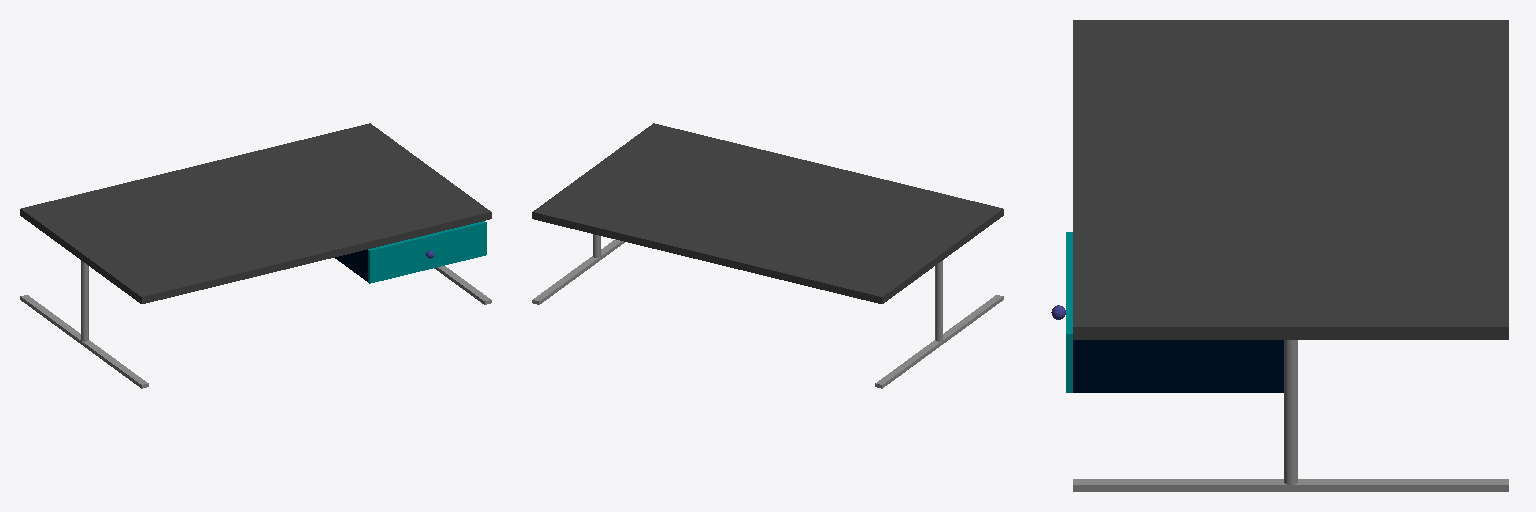
The robot description file, URDF, robot "desk":
<?xml version="1.0" ?>
<!-- =================================================================================== -->
<!-- |    This document was autogenerated by xacro from desk.urdf.xacro                | -->
<!-- |    EDITING THIS FILE BY HAND IS NOT RECOMMENDED                                 | -->
<!-- =================================================================================== -->
<robot name="desk" xmlns:xacro="http://www.ros.org/wiki/xacro">
  <material name="light_gray">
    <color rgba="0.6 0.6 0.6 1"/>
  </material>
  <material name="dark_gray">
    <color rgba="0.3 0.3 0.3 1"/>
  </material>
  <material name="marine">
    <color rgba="0 0.1 0.2 1"/>
  </material>
  <material name="light_turquoise">
    <color rgba="0 0.6 0.6 1"/>
  </material>
  <material name="light_purple">
    <color rgba="0.3 0.3 0.6 1"/>
  </material>
  <link name="world"/>
  <link name="board">
    <visual>
      <geometry>
        <box size="2.5 1.5 0.05"/>
      </geometry>
      <origin rpy="0 0 0" xyz="0 0 0"/>
      <material name="dark_gray"/>
    </visual>
    <collision>
      <geometry>
        <box size="2.5 1.5 0.05"/>
      </geometry>
      <origin rpy="0 0 0" xyz="0 0 0"/>
    </collision>
  </link>
  <link name="right_body">
    <visual>
      <geometry>
        <cylinder length="0.55" radius="0.025"/>
      </geometry>
      <origin rpy="0 0 0" xyz="0 0 0"/>
      <material name="light_gray"/>
    </visual>
    <collision>
      <geometry>
        <cylinder length="0.55" radius="0.025"/>
      </geometry>
      <origin rpy="0 0 0" xyz="0 0 0"/>
    </collision>
  </link>
  <link name="right_foot">
    <visual>
      <geometry>
        <box size="0.05 1.5 0.025"/>
      </geometry>
      <origin rpy="0 0 0" xyz="0 0 0"/>
      <material name="light_gray"/>
    </visual>
    <collision>
      <geometry>
        <box size="0.05 1.5 0.025"/>
      </geometry>
      <origin rpy="0 0 0" xyz="0 0 0"/>
    </collision>
  </link>
  <joint name="right_body_foot_joint" type="fixed">
    <parent link="right_body"/>
    <child link="right_foot"/>
    <origin rpy="0 0 0" xyz="0 0 -0.2875"/>
  </joint>
  <link name="left_body">
    <visual>
      <geometry>
        <cylinder length="0.55" radius="0.025"/>
      </geometry>
      <origin rpy="0 0 0" xyz="0 0 0"/>
      <material name="light_gray"/>
    </visual>
    <collision>
      <geometry>
        <cylinder length="0.55" radius="0.025"/>
      </geometry>
      <origin rpy="0 0 0" xyz="0 0 0"/>
    </collision>
  </link>
  <link name="left_foot">
    <visual>
      <geometry>
        <box size="0.05 1.5 0.025"/>
      </geometry>
      <origin rpy="0 0 0" xyz="0 0 0"/>
      <material name="light_gray"/>
    </visual>
    <collision>
      <geometry>
        <box size="0.05 1.5 0.025"/>
      </geometry>
      <origin rpy="0 0 0" xyz="0 0 0"/>
    </collision>
  </link>
  <joint name="left_body_foot_joint" type="fixed">
    <parent link="left_body"/>
    <child link="left_foot"/>
    <origin rpy="0 0 0" xyz="0 0 -0.2875"/>
  </joint>
  <joint name="board_right_body_joint" type="fixed">
    <parent link="board"/>
    <child link="right_body"/>
    <origin rpy="0 0 0" xyz="1.225 0 -0.3"/>
  </joint>
  <joint name="board_left_body_joint" type="fixed">
    <parent link="board"/>
    <child link="left_body"/>
    <origin rpy="0 0 0" xyz="-1.225 0 -0.3"/>
  </joint>
  <joint name="world_board_joint" type="fixed">
    <parent link="world"/>
    <child link="board"/>
    <origin rpy="0 0 0" xyz="0 0 0.6"/>
  </joint>
  <link name="upper_case_background">
    <visual>
      <geometry>
        <box size="0.833333333333 0.025 0.2"/>
      </geometry>
      <origin rpy="0 0 0" xyz="0 0 0"/>
      <material name="marine"/>
    </visual>
    <collision>
      <geometry>
        <box size="0.833333333333 0.025 0.2"/>
      </geometry>
      <origin rpy="0 0 0" xyz="0 0 0"/>
    </collision>
  </link>
  <link name="upper_case_bottom">
    <visual>
      <geometry>
        <box size="0.833333333333 0.775 0.025"/>
      </geometry>
      <origin rpy="0 0 0" xyz="0 0 0"/>
      <material name="marine"/>
    </visual>
    <collision>
      <geometry>
        <box size="0.833333333333 0.775 0.025"/>
      </geometry>
      <origin rpy="0 0 0" xyz="0 0 0"/>
    </collision>
  </link>
  <joint name="upper_case_background_bottom_joint" type="fixed">
    <parent link="upper_case_background"/>
    <child link="upper_case_bottom"/>
    <origin rpy="0 0 0" xyz="0 -0.375 -0.1125"/>
  </joint>
  <link name="upper_case_right">
    <visual>
      <geometry>
        <box size="0.025 0.75 0.2"/>
      </geometry>
      <origin rpy="0 0 0" xyz="0 0 0"/>
      <material name="marine"/>
    </visual>
    <collision>
      <geometry>
        <box size="0.025 0.75 0.2"/>
      </geometry>
      <origin rpy="0 0 0" xyz="0 0 0"/>
    </collision>
  </link>
  <joint name="upper_case_background_right_joint" type="fixed">
    <parent link="upper_case_background"/>
    <child link="upper_case_right"/>
    <origin rpy="0 0 0" xyz="0.404166666666 -0.3875 0"/>
  </joint>
  <link name="upper_case_left">
    <visual>
      <geometry>
        <box size="0.025 0.75 0.2"/>
      </geometry>
      <origin rpy="0 0 0" xyz="0 0 0"/>
      <material name="marine"/>
    </visual>
    <collision>
      <geometry>
        <box size="0.025 0.75 0.2"/>
      </geometry>
      <origin rpy="0 0 0" xyz="0 0 0"/>
    </collision>
  </link>
  <joint name="upper_case_background_left_joint" type="fixed">
    <parent link="upper_case_background"/>
    <child link="upper_case_left"/>
    <origin rpy="0 0 0" xyz="-0.404166666666 -0.3875 0"/>
  </joint>
  <joint name="board_upper_case_background_joint" type="fixed">
    <parent link="board"/>
    <child link="upper_case_background"/>
    <origin rpy="0 0 0" xyz="0.783333333333 0.0125 -0.125"/>
  </joint>
  <link name="upper_drawer_bottom">
    <visual>
      <geometry>
        <box size="0.783333333333 0.75 0.025"/>
      </geometry>
      <origin rpy="0 0 0" xyz="0 0 0"/>
      <material name="light_turquoise"/>
    </visual>
    <collision>
      <geometry>
        <box size="0.783333333333 0.75 0.025"/>
      </geometry>
      <origin rpy="0 0 0" xyz="0 0 0"/>
    </collision>
  </link>
  <link name="upper_drawer_background">
    <visual>
      <geometry>
        <box size="0.783333333333 0.025 0.175"/>
      </geometry>
      <origin rpy="0 0 0" xyz="0 0 0"/>
      <material name="light_turquoise"/>
    </visual>
    <collision>
      <geometry>
        <box size="0.783333333333 0.025 0.175"/>
      </geometry>
      <origin rpy="0 0 0" xyz="0 0 0"/>
    </collision>
  </link>
  <joint name="upper_drawer_bottom_background_joint" type="fixed">
    <parent link="upper_drawer_bottom"/>
    <child link="upper_drawer_background"/>
    <origin rpy="0 0 0" xyz="0 0.3625 0.1"/>
  </joint>
  <link name="upper_drawer_right">
    <visual>
      <geometry>
        <box size="0.025 0.725 0.175"/>
      </geometry>
      <origin rpy="0 0 0" xyz="0 0 0"/>
      <material name="light_turquoise"/>
    </visual>
    <collision>
      <geometry>
        <box size="0.025 0.725 0.175"/>
      </geometry>
      <origin rpy="0 0 0" xyz="0 0 0"/>
    </collision>
  </link>
  <joint name="upper_drawer_bottom_right_joint" type="fixed">
    <parent link="upper_drawer_bottom"/>
    <child link="upper_drawer_right"/>
    <origin rpy="0 0 0" xyz="0.379166666666 -0.0125 0.1"/>
  </joint>
  <link name="upper_drawer_left">
    <visual>
      <geometry>
        <box size="0.025 0.725 0.175"/>
      </geometry>
      <origin rpy="0 0 0" xyz="0 0 0"/>
      <material name="light_turquoise"/>
    </visual>
    <collision>
      <geometry>
        <box size="0.025 0.725 0.175"/>
      </geometry>
      <origin rpy="0 0 0" xyz="0 0 0"/>
    </collision>
  </link>
  <joint name="upper_drawer_bottom_left_joint" type="fixed">
    <parent link="upper_drawer_bottom"/>
    <child link="upper_drawer_left"/>
    <origin rpy="0 0 0" xyz="-0.379166666666 -0.0125 0.1"/>
  </joint>
  <link name="upper_drawer_front">
    <visual>
      <geometry>
        <box size="0.833333333333 0.025 0.225"/>
      </geometry>
      <origin rpy="0 0 0" xyz="0 0 0"/>
      <material name="light_turquoise"/>
    </visual>
    <collision>
      <geometry>
        <box size="0.833333333333 0.025 0.225"/>
      </geometry>
      <origin rpy="0 0 0" xyz="0 0 0"/>
    </collision>
  </link>
  <joint name="upper_drawer_bottom_front_joint" type="fixed">
    <parent link="upper_drawer_bottom"/>
    <child link="upper_drawer_front"/>
    <origin rpy="0 0 0" xyz="0 -0.3875 0.075"/>
  </joint>
  <link name="upper_drawer_handle">
    <visual>
      <geometry>
        <sphere radius="0.025"/>
      </geometry>
      <origin rpy="0 0 0" xyz="0 0 0"/>
      <material name="light_purple"/>
    </visual>
    <collision>
      <geometry>
        <sphere radius="0.025"/>
      </geometry>
      <origin rpy="0 0 0" xyz="0 0 0"/>
    </collision>
  </link>
  <joint name="upper_drawer_front_handle_joint" type="fixed">
    <parent link="upper_drawer_front"/>
    <child link="upper_drawer_handle"/>
    <origin rpy="0 0 0" xyz="0 -0.0375 0"/>
  </joint>
  <joint name="upper_case_bottom_upper_drawer_bottom_joint" type="prismatic">
    <parent link="upper_case_bottom"/>
    <child link="upper_drawer_bottom"/>
    <limit effort="500" lower="-0.3875" upper="0" velocity="0.5"/>
    <axis xyz="0 1 0"/>
    <origin rpy="0 0 0" xyz="0 -0.0125 0.025"/>
  </joint>
</robot>

--- Render facts (derived) ---
3 views of the same robot in one strip: view 1: azimuth 30°, elevation 25°; view 2: azimuth 150°, elevation 25°; view 3: azimuth 270°, elevation 25° (orthographic).
Robot: desk — 16 links, 15 joints (1 prismatic, 14 fixed); root link world; default pose: all joints at 0.
Links seen in each view (by area): view 1: board, upper_drawer_front, left_foot, left_body; view 2: board, left_foot, right_foot, left_body; view 3: board, upper_case_right, right_foot, right_body, upper_case_bottom, upper_drawer_front.
Link boxes in pixels (x1,y1,x2,y2): board: [20, 123, 491, 303]; upper_drawer_front: [368, 221, 486, 283]; left_foot: [20, 295, 148, 388]; left_body: [81, 261, 88, 341]; board: [532, 123, 1003, 303]; left_foot: [875, 295, 1003, 388]; right_foot: [532, 239, 624, 304]; left_body: [935, 261, 942, 341]; board: [1073, 20, 1508, 339]; upper_case_right: [1073, 340, 1283, 386]; right_foot: [1073, 479, 1508, 491]; right_body: [1284, 340, 1297, 484]; upper_case_bottom: [1073, 387, 1283, 392]; upper_drawer_front: [1066, 232, 1072, 392].
Bounding box of the posed robot: 2.5 × 1.57 × 0.625 m (x, y, z).
Geometry: primitives only (box / cylinder / sphere), no mesh files.